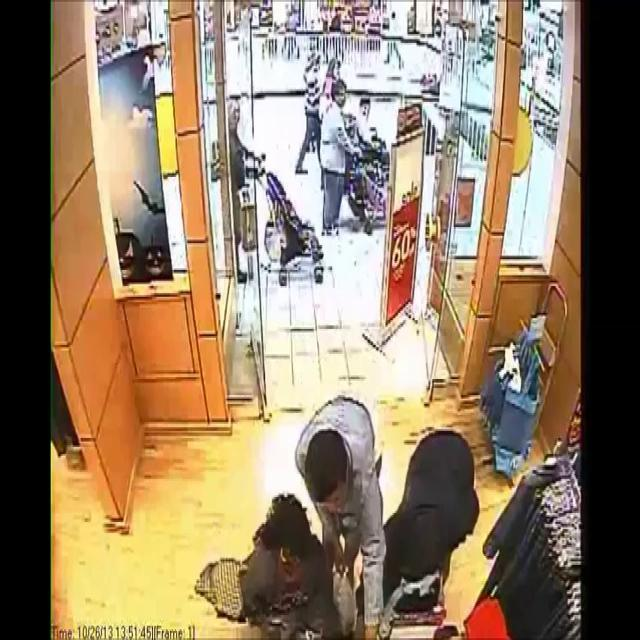normal: (291, 376, 389, 528)
shoplifting: (364, 418, 477, 640), (227, 476, 333, 640)
